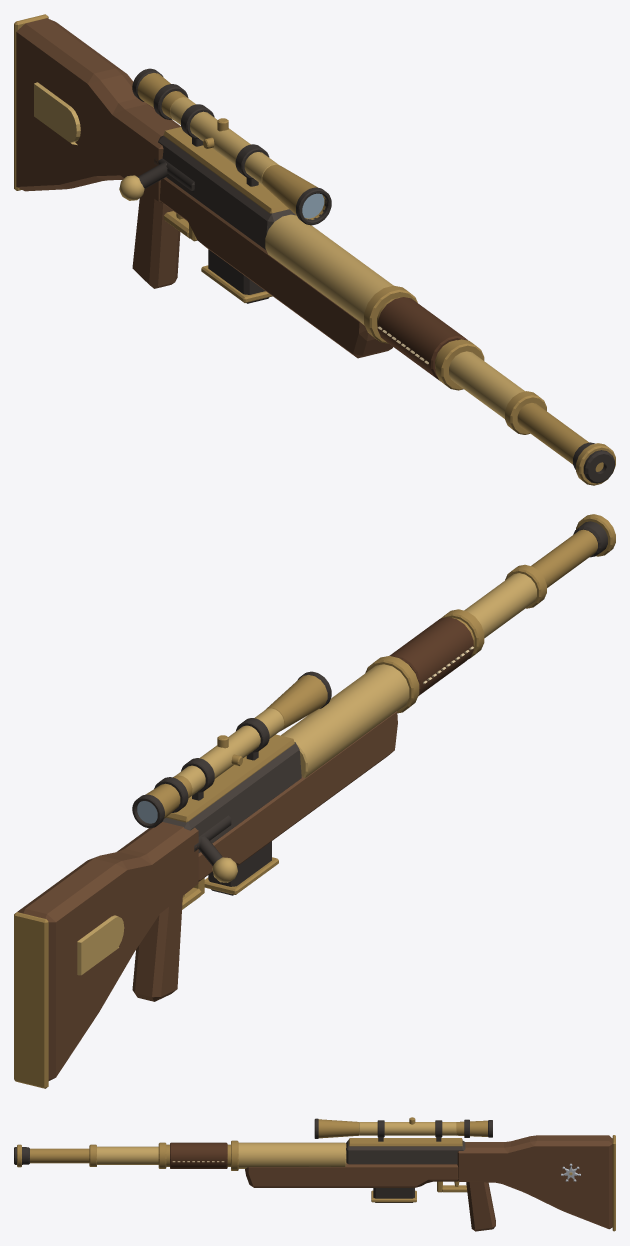
Rendered from w_sniper@sniper_dust.glb.
3 views of the same model, one above another, from view 1: azimuth 30°, elevation 25°; view 2: azimuth 150°, elevation 25°; view 3: azimuth 270°, elevation 25° (orthographic). The views are drawn at different scales.
Parts seen in each view (by area): view 1: stock_wzA__wood__p6b4a32, barrel_wzA__brass2__pc4a463, body_wzB__metal2__p4a423c, barrel_wzA__wrap__p5a3a26, barrel_wzN__brass__pa8874a, grip_wzA__wood__p6b4a32, scope_wzN__brass__pa8874a, scope_wzN__metal__p3b3531, scope_wzN__brass2__pc4a463, body_wzN__brass__pa8874a, barrel_wzA__brass__pa8874a, stock_wzN__brass2__pc4a463 (+4 smaller); view 2: stock_wzA__wood__p6b4a32, barrel_wzA__brass2__pc4a463, stock_wzB__brass__pa8874a, body_wzB__metal2__p4a423c, grip_wzA__wood__p6b4a32, barrel_wzA__wrap__p5a3a26, scope_wzN__brass__pa8874a, barrel_wzN__brass__pa8874a, scope_wzN__brass2__pc4a463, body_wzN__brass__pa8874a, scope_wzN__metal__p3b3531, barrel_wzA__brass__pa8874a (+2 smaller); view 3: stock_wzA__wood__p6b4a32, barrel_wzA__brass2__pc4a463, body_wzB__metal2__p4a423c, barrel_wzA__wrap__p5a3a26, scope_wzN__brass2__pc4a463, grip_wzA__wood__p6b4a32, scope_wzN__brass__pa8874a, barrel_wzA__brass__pa8874a, body_wzN__brass__pa8874a, barrel_wzN__brass__pa8874a, scope_wzN__metal__p3b3531, mag_wzB__metal__p3b3531 (+4 smaller).
Boxes of the visible parts, x1,y1,x2,y2 form: stock_wzA__wood__p6b4a32: [16, 18, 392, 358]; barrel_wzA__brass2__pc4a463: [265, 214, 524, 418]; body_wzB__metal2__p4a423c: [158, 135, 295, 249]; barrel_wzA__wrap__p5a3a26: [377, 297, 467, 380]; barrel_wzN__brass__pa8874a: [364, 285, 615, 485]; grip_wzA__wood__p6b4a32: [132, 192, 180, 288]; scope_wzN__brass__pa8874a: [137, 73, 326, 219]; scope_wzN__metal__p3b3531: [132, 68, 331, 225]; scope_wzN__brass2__pc4a463: [170, 97, 278, 185]; body_wzN__brass__pa8874a: [163, 127, 288, 213]; barrel_wzA__brass__pa8874a: [377, 297, 588, 464]; stock_wzN__brass2__pc4a463: [34, 82, 80, 145]; stock_wzA__wood__p6b4a32: [17, 711, 397, 1080]; barrel_wzA__brass2__pc4a463: [281, 573, 536, 777]; stock_wzB__brass__pa8874a: [14, 912, 48, 1088]; body_wzB__metal2__p4a423c: [162, 742, 301, 852]; grip_wzA__wood__p6b4a32: [132, 896, 182, 1001]; barrel_wzA__wrap__p5a3a26: [389, 617, 473, 695]; scope_wzN__brass__pa8874a: [146, 675, 327, 818]; barrel_wzN__brass__pa8874a: [365, 514, 615, 713]; scope_wzN__brass2__pc4a463: [175, 708, 283, 796]; body_wzN__brass__pa8874a: [166, 734, 294, 822]; scope_wzN__metal__p3b3531: [132, 671, 331, 828]; barrel_wzA__brass__pa8874a: [452, 529, 597, 646]; stock_wzA__wood__p6b4a32: [245, 1135, 612, 1229]; barrel_wzA__brass2__pc4a463: [97, 1142, 346, 1168]; body_wzB__metal2__p4a423c: [346, 1139, 465, 1164]; barrel_wzA__wrap__p5a3a26: [170, 1142, 227, 1168]; scope_wzN__brass2__pc4a463: [359, 1122, 456, 1135]; grip_wzA__wood__p6b4a32: [466, 1181, 495, 1231]; scope_wzN__brass__pa8874a: [318, 1117, 487, 1138]; barrel_wzA__brass__pa8874a: [30, 1144, 230, 1166]; body_wzN__brass__pa8874a: [348, 1138, 462, 1146]; barrel_wzN__brass__pa8874a: [17, 1140, 238, 1170]; scope_wzN__metal__p3b3531: [314, 1118, 492, 1141]; mag_wzB__metal__p3b3531: [373, 1188, 414, 1202].
Size of the model in its own units: 0.173 by 0.4243 by 2.09.
